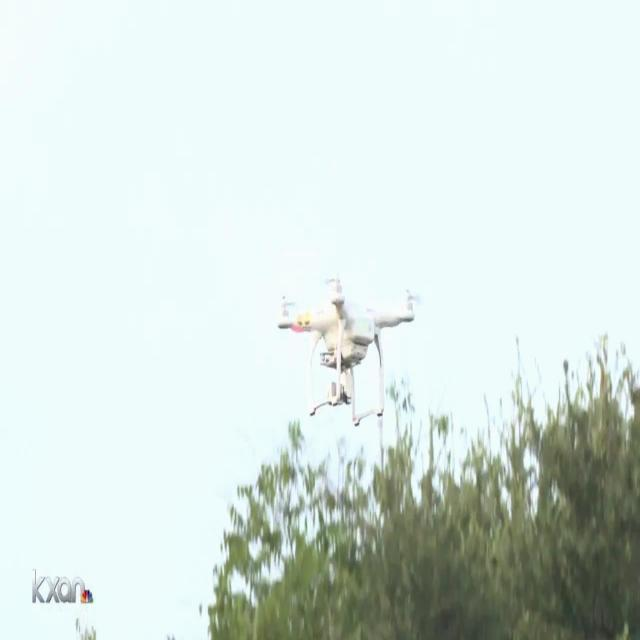drone: (276, 266, 416, 429)
